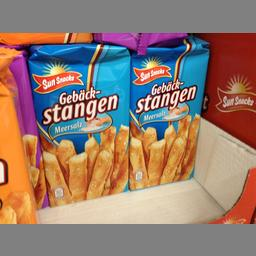chips: (26, 42, 132, 206), (129, 44, 206, 188)
